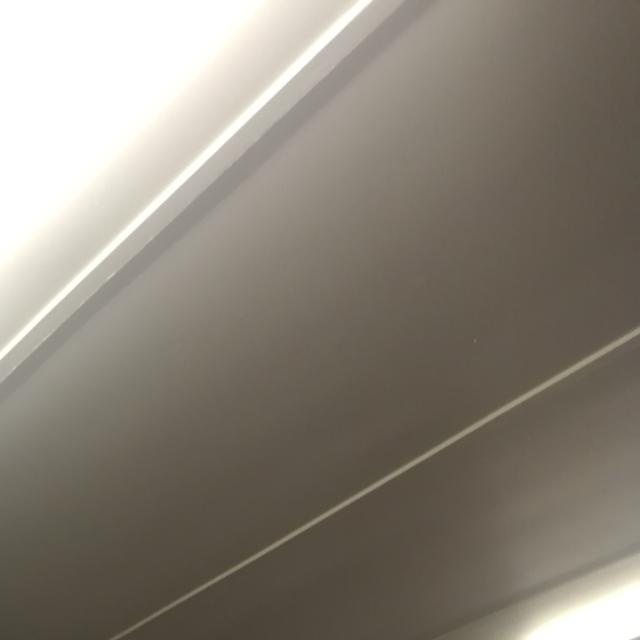fluorescent tube: (0, 0, 350, 430), (486, 550, 640, 640)
